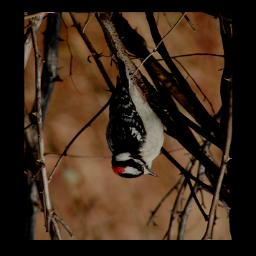Woodpecker: (106, 55, 169, 179)
